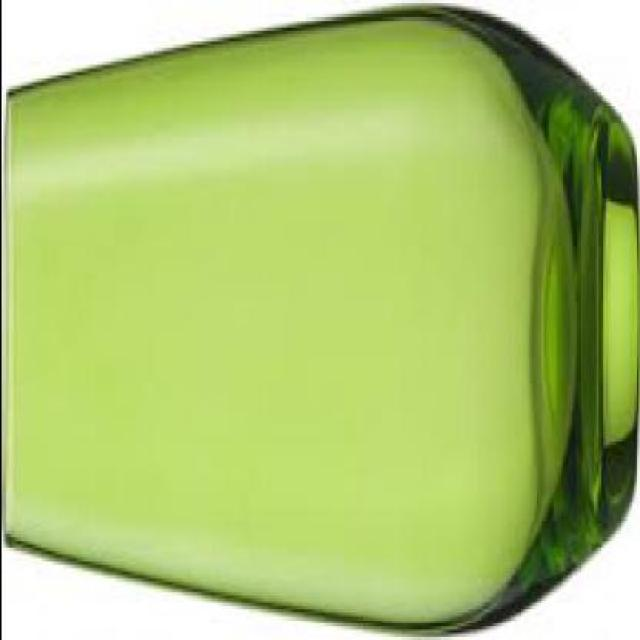GLASS: (2, 3, 638, 637)
